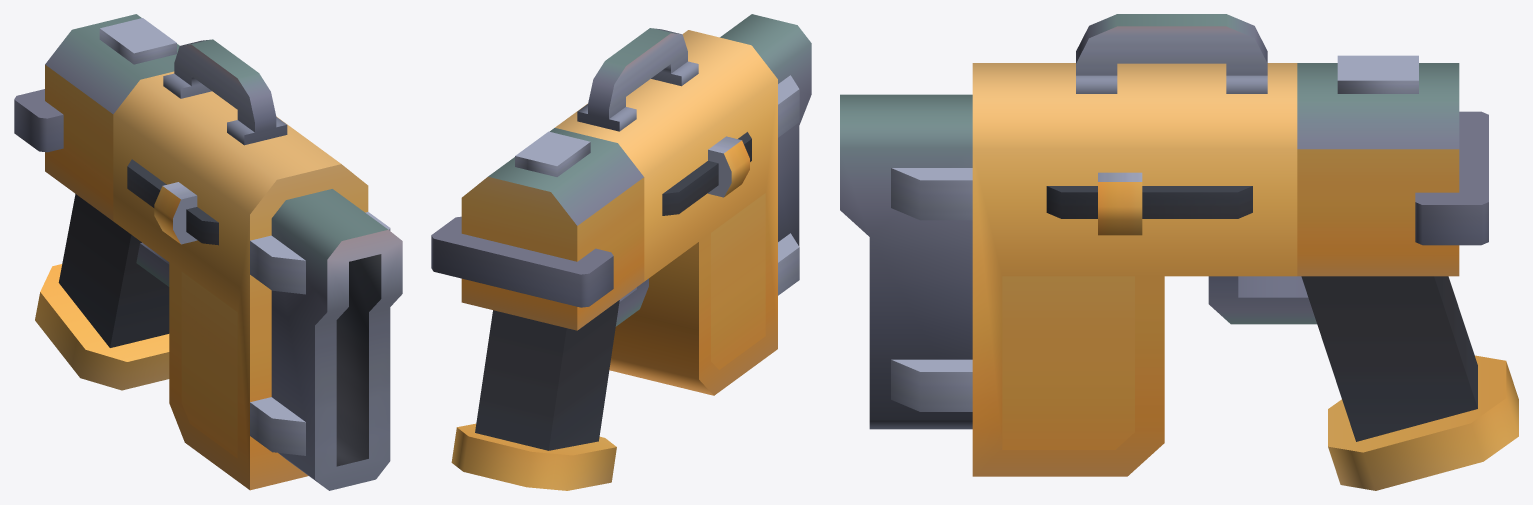
3 renders of one model, left to right at view 1: azimuth 30°, elevation 25°; view 2: azimuth 150°, elevation 25°; view 3: azimuth 270°, elevation 25°, orthographic. The views are drawn at different scales.
Visible parts, largest first — view 1: blaster-k; view 2: blaster-k; view 3: blaster-k.
Boxes of the visible parts, <box> form: blaster-k: <box>14,14,402,490</box>; blaster-k: <box>431,14,811,490</box>; blaster-k: <box>840,14,1518,490</box>.
Size of the model in its own units: 0.101 by 0.2175 by 0.3.
Materials: 1 (1 with a texture image).
